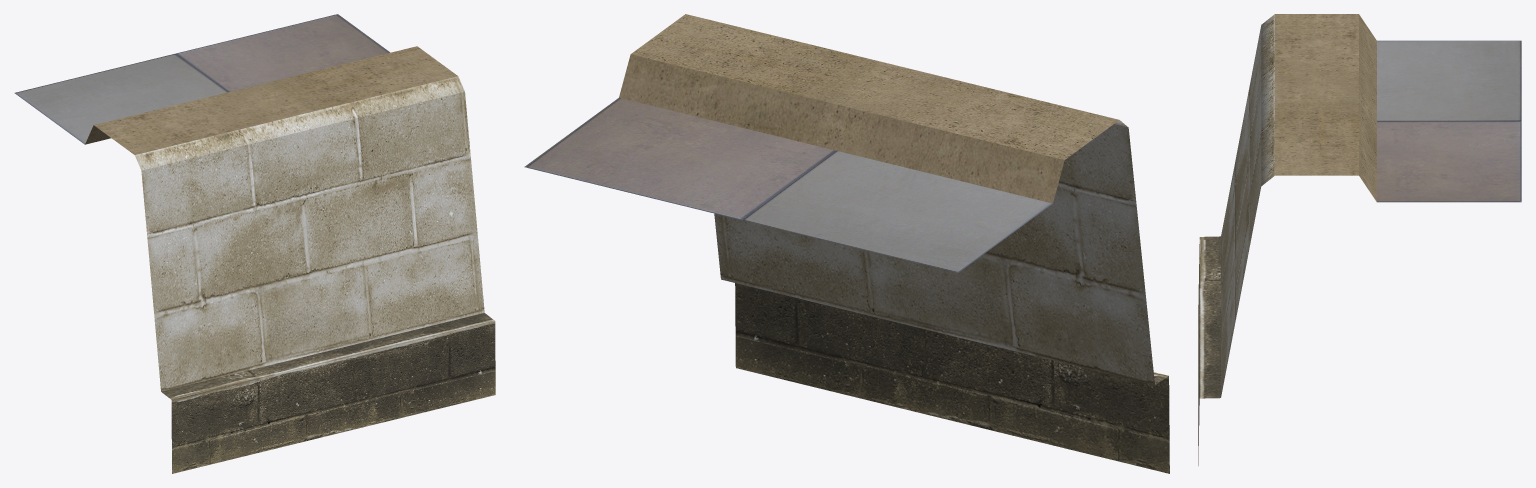
Rendered from castle-wall-half.fbx.
The picture shows the model from 3 angles, left to right: view 1: azimuth 30°, elevation 25°; view 2: azimuth 150°, elevation 25°; view 3: azimuth 270°, elevation 25°; orthographic projection. The views are drawn at different scales.
Parts seen in each view (by area): view 1: castle-wall-half; view 2: castle-wall-half; view 3: castle-wall-half.
Part boxes in pixels (x1,y1,x2,y2): castle-wall-half: (14, 14, 495, 473); castle-wall-half: (524, 14, 1169, 473); castle-wall-half: (1198, 14, 1521, 465).
Bounding box in the file's own units: 200 × 172 × 169.
